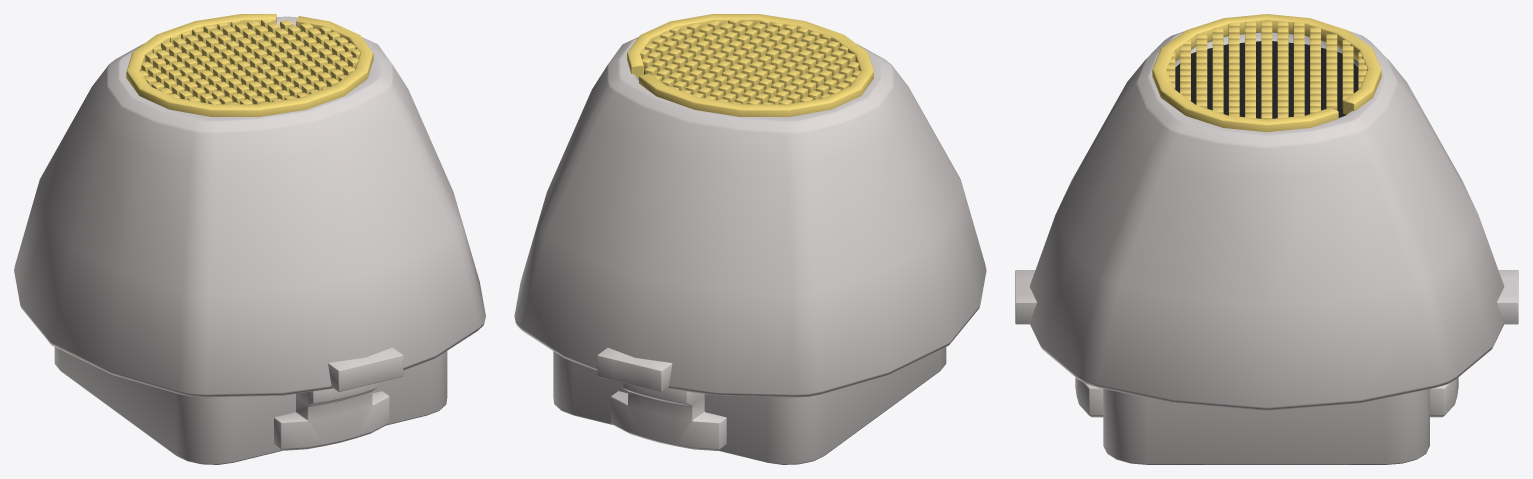
The model's file is therfect_trf_r_v2_240208.glb.
The picture shows the model from 3 angles, left to right: view 1: azimuth 30°, elevation 25°; view 2: azimuth 150°, elevation 25°; view 3: azimuth 270°, elevation 25°; orthographic projection. The views are drawn at different scales.
Parts seen in each view (by area): view 1: trf_r; view 2: trf_r; view 3: trf_r.
Boxes of the visible parts, bbox=[...] form: trf_r: bbox=[14, 14, 485, 464]; trf_r: bbox=[514, 14, 986, 464]; trf_r: bbox=[1015, 14, 1518, 464].
Bounding box in the file's own units: 0.0957 × 0.0735 × 0.1017.
